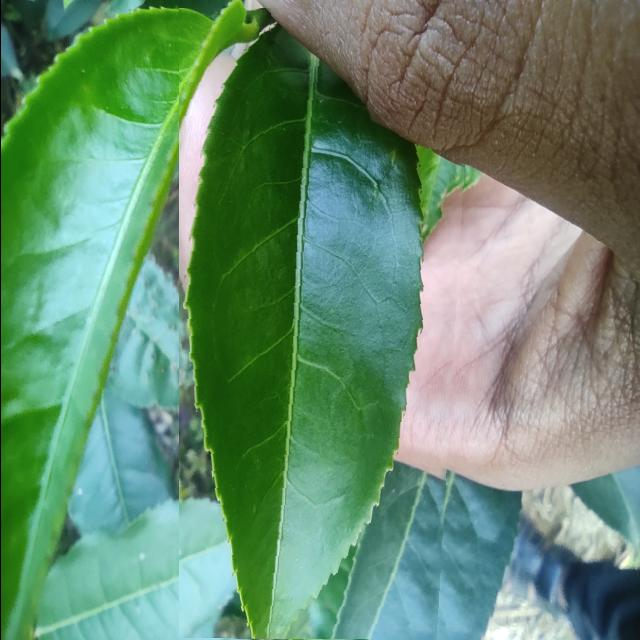Category C(4-7 days): (178, 8, 473, 640)
